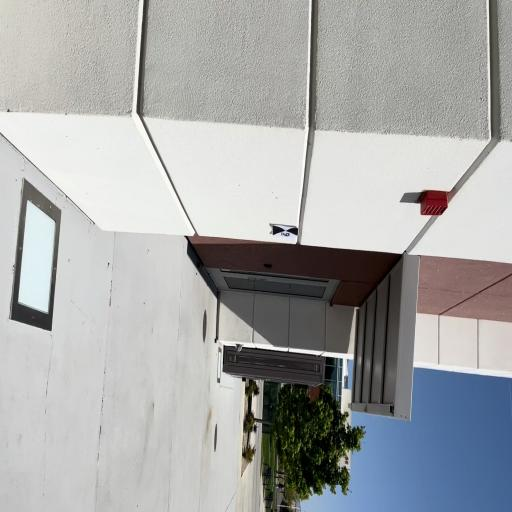target9: (271, 225, 300, 238)
